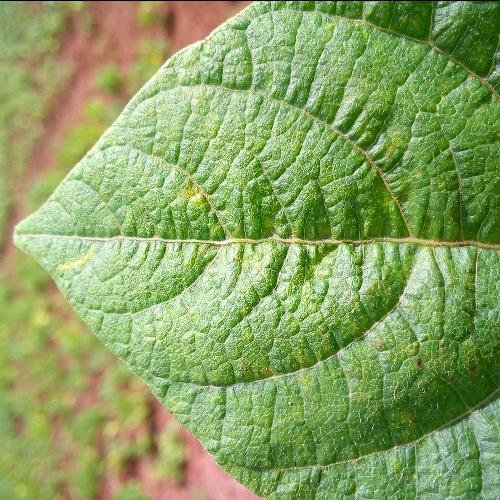sehat: (168, 50, 462, 466)
